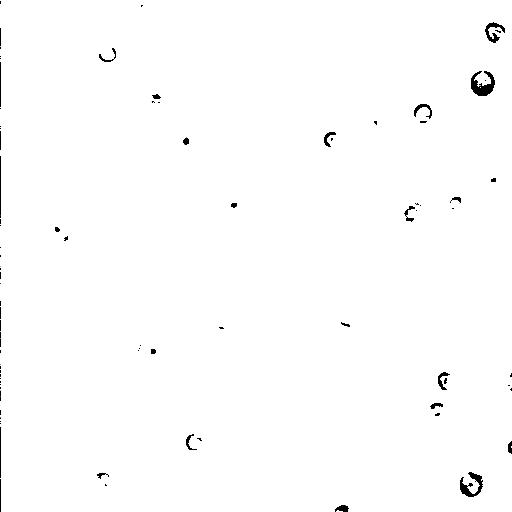micro-algae: (279, 198, 408, 329), (10, 187, 99, 275), (5, 19, 73, 85), (1, 182, 49, 265), (60, 0, 121, 52), (395, 194, 449, 249), (369, 7, 415, 49), (465, 434, 505, 473), (5, 73, 39, 107), (127, 0, 165, 27), (115, 336, 147, 366), (51, 231, 83, 261), (138, 332, 167, 365), (327, 305, 357, 333), (365, 105, 394, 133), (396, 201, 423, 231), (469, 69, 496, 98), (213, 190, 243, 216), (170, 127, 197, 153), (458, 472, 485, 498), (477, 167, 505, 189), (89, 470, 113, 494), (483, 20, 505, 43), (413, 102, 433, 125), (42, 223, 65, 243), (435, 371, 457, 390), (99, 43, 117, 63), (185, 433, 203, 453), (322, 131, 341, 148), (428, 399, 444, 418), (447, 193, 463, 210), (331, 501, 351, 512), (504, 371, 511, 392), (505, 437, 512, 457)
